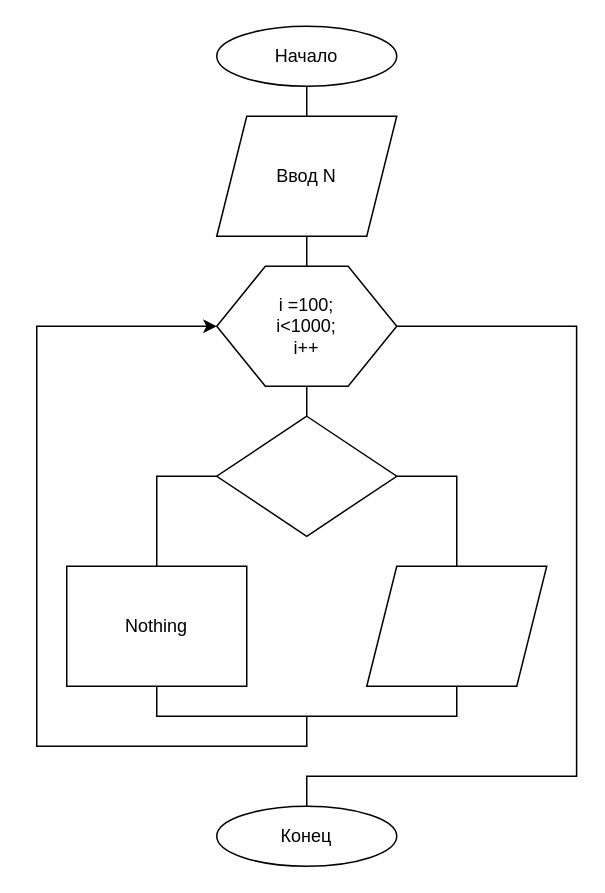
Some shapes in this 605 by 893 pixel diagram are drawn without their labels. Here are the shapes that lost their labels. From the top down, the centre of each, then its label:
At pixel 306 475: "Сумма цифр i = N".
At pixel 456 625: "Вывод i".
